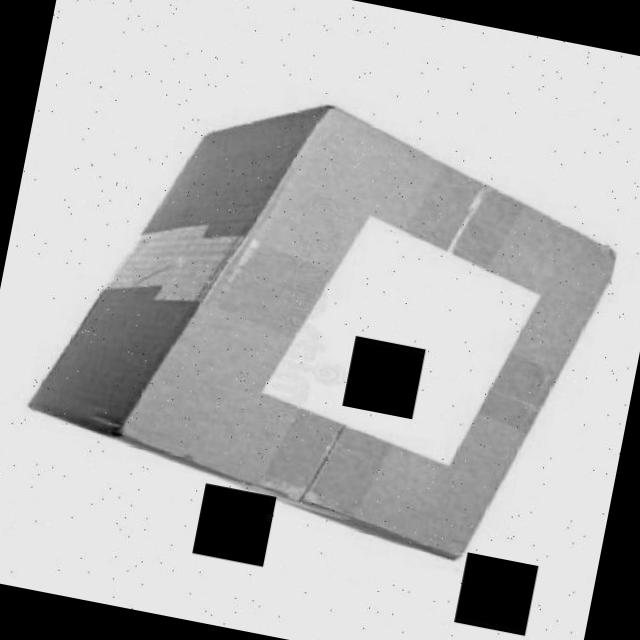box: (5, 58, 638, 581)
